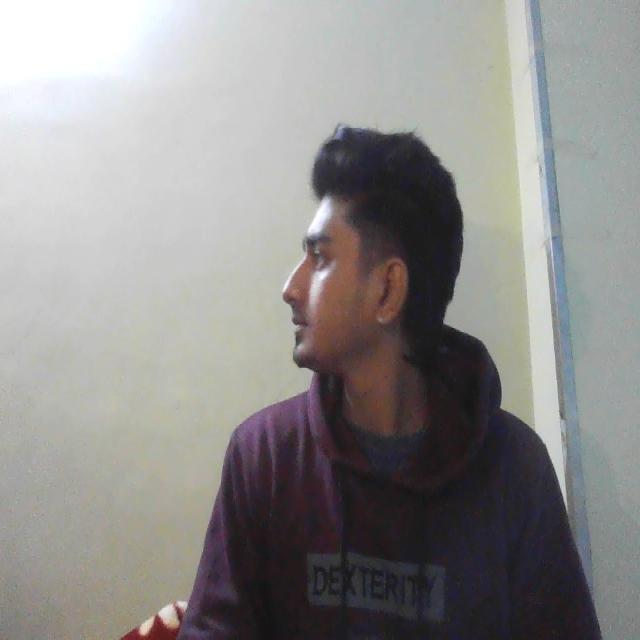real: (292, 157, 403, 368)
